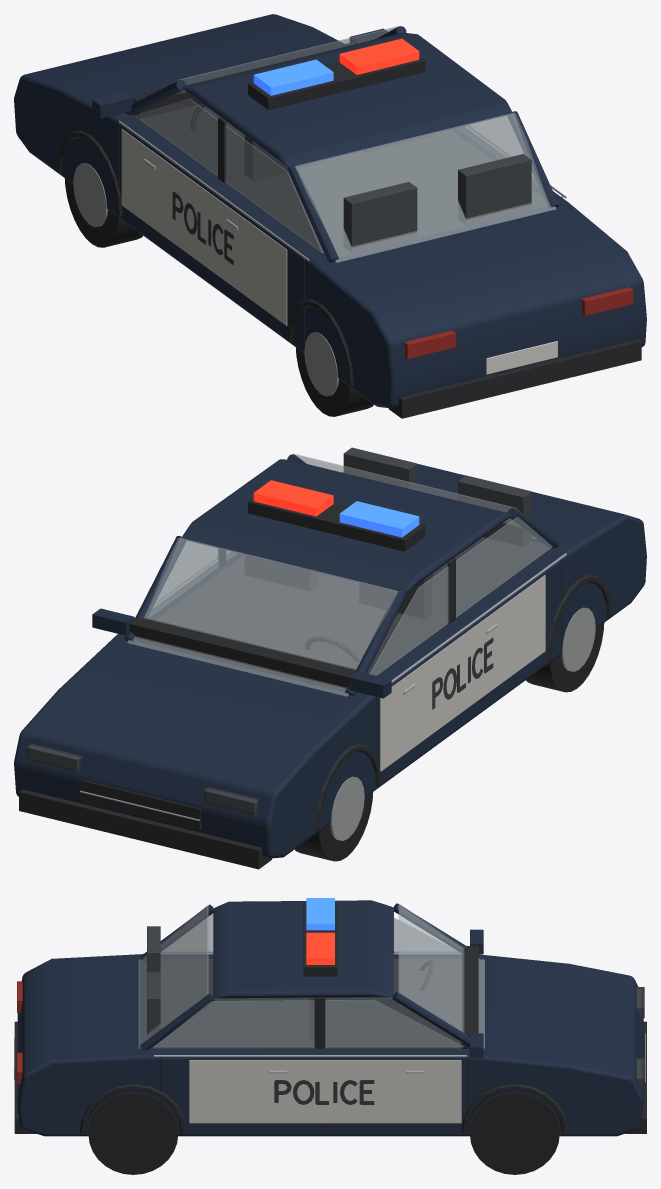
Rendered from veh_escort_car.glb.
3 renders of one model, top to bottom at view 1: azimuth 30°, elevation 25°; view 2: azimuth 150°, elevation 25°; view 3: azimuth 270°, elevation 25°, orthographic. The views are drawn at different scales.
Visible parts, largest first — view 1: Body, LiveryLMesh; view 2: Body, LiveryLMesh; view 3: Body, LiveryRMesh.
Boxes of the visible parts, <box> form: Body: <box>14,14,646,418</box>; LiveryLMesh: <box>121,129,287,325</box>; Body: <box>14,447,646,869</box>; LiveryLMesh: <box>380,575,545,771</box>; Body: <box>14,898,646,1174</box>; LiveryRMesh: <box>189,1060,461,1123</box>.
Bounding box in the file's own units: 2.04 × 1.58 × 4.65.
